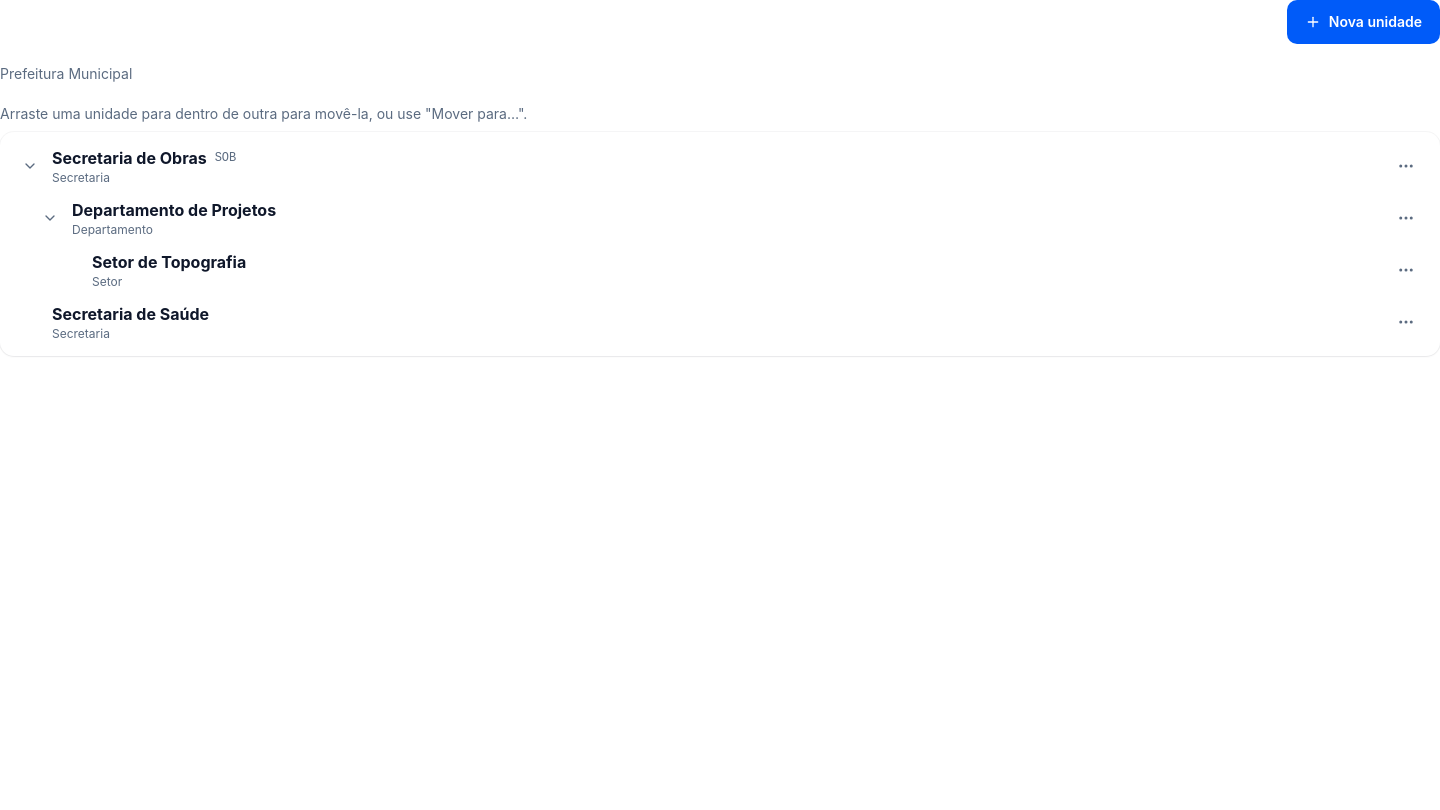
Test case: [Sucesso] SCR-032 · aba Secretarias › criar unidade na raiz: corpo do DEP-03 com Idempotency-Key e árvore relida
This screenshot has width=1440, height=810.
Click the button "Nova unidade".
click(1363, 22)  # box [1287, 0, 1439, 44]
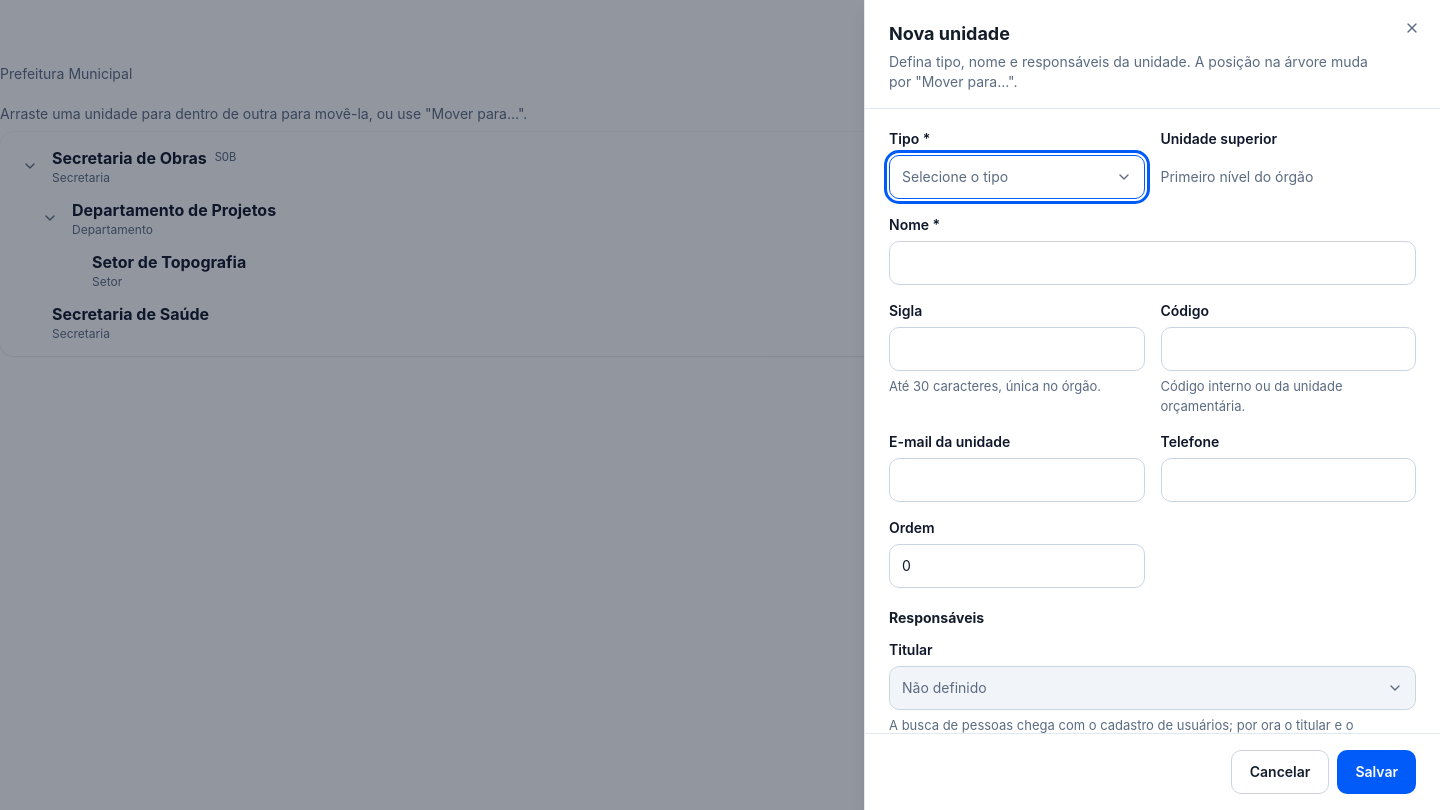
Click the dropdown named "Tipo *".
click(1017, 177)  # box [889, 155, 1144, 199]
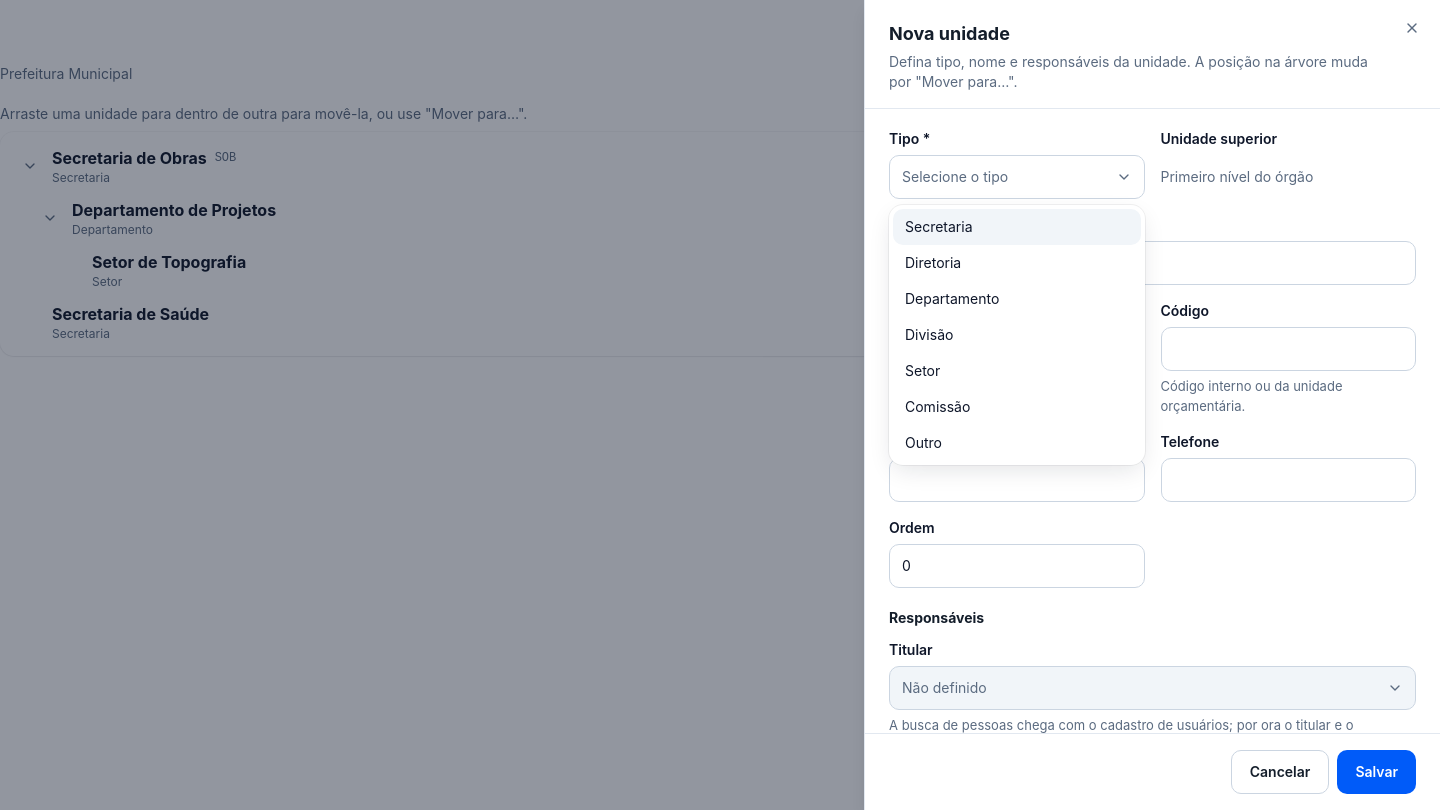
Click the option "Secretaria".
click(1017, 227)  # box [893, 209, 1140, 245]
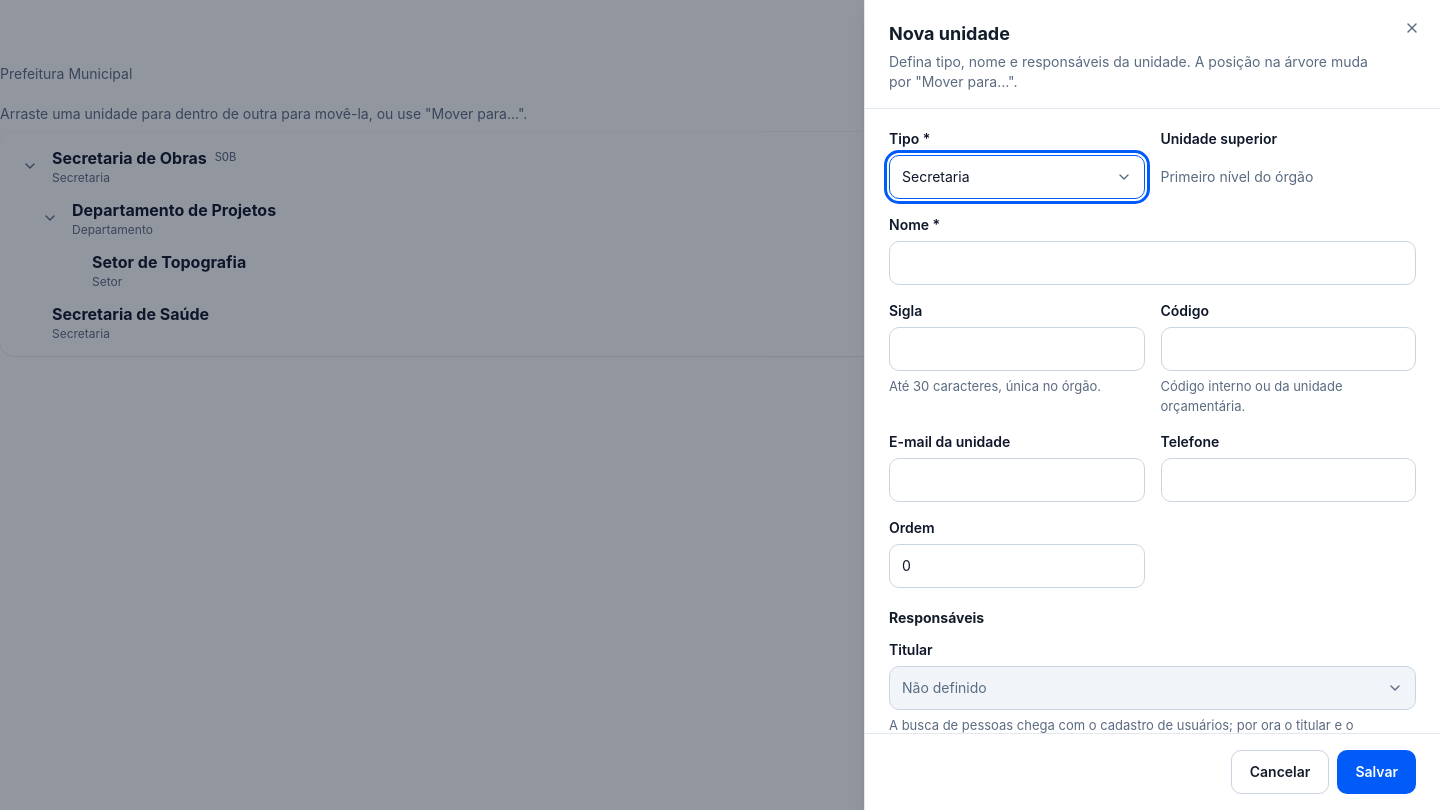
Type "Secretaria de Cultura" into the field labelled "Nome *".
click(1152, 263); type("Secretaria de Cultura")  # box [889, 241, 1416, 285]
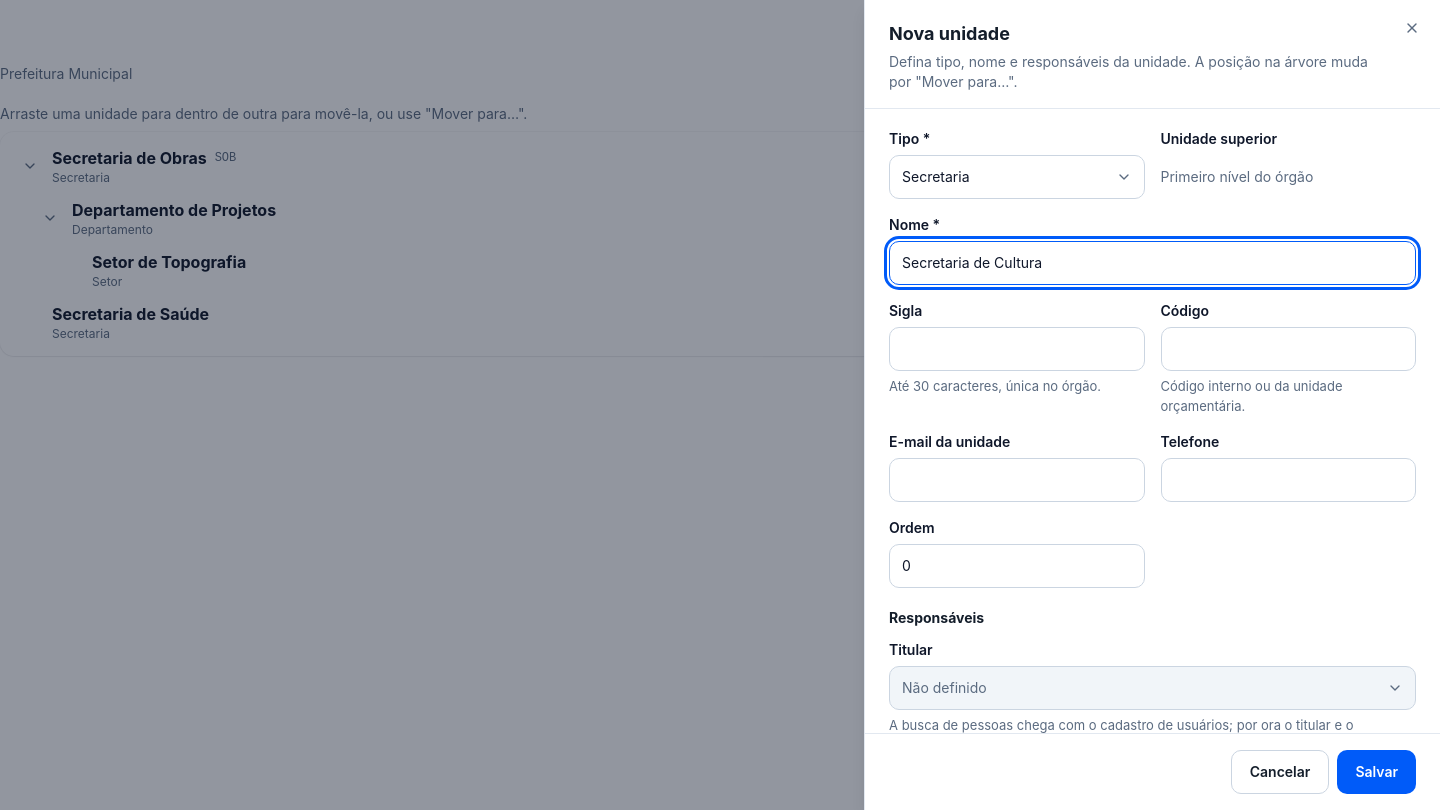
Type "sec" into the field labelled "Sigla".
click(1017, 349); type("sec")  # box [889, 327, 1144, 371]
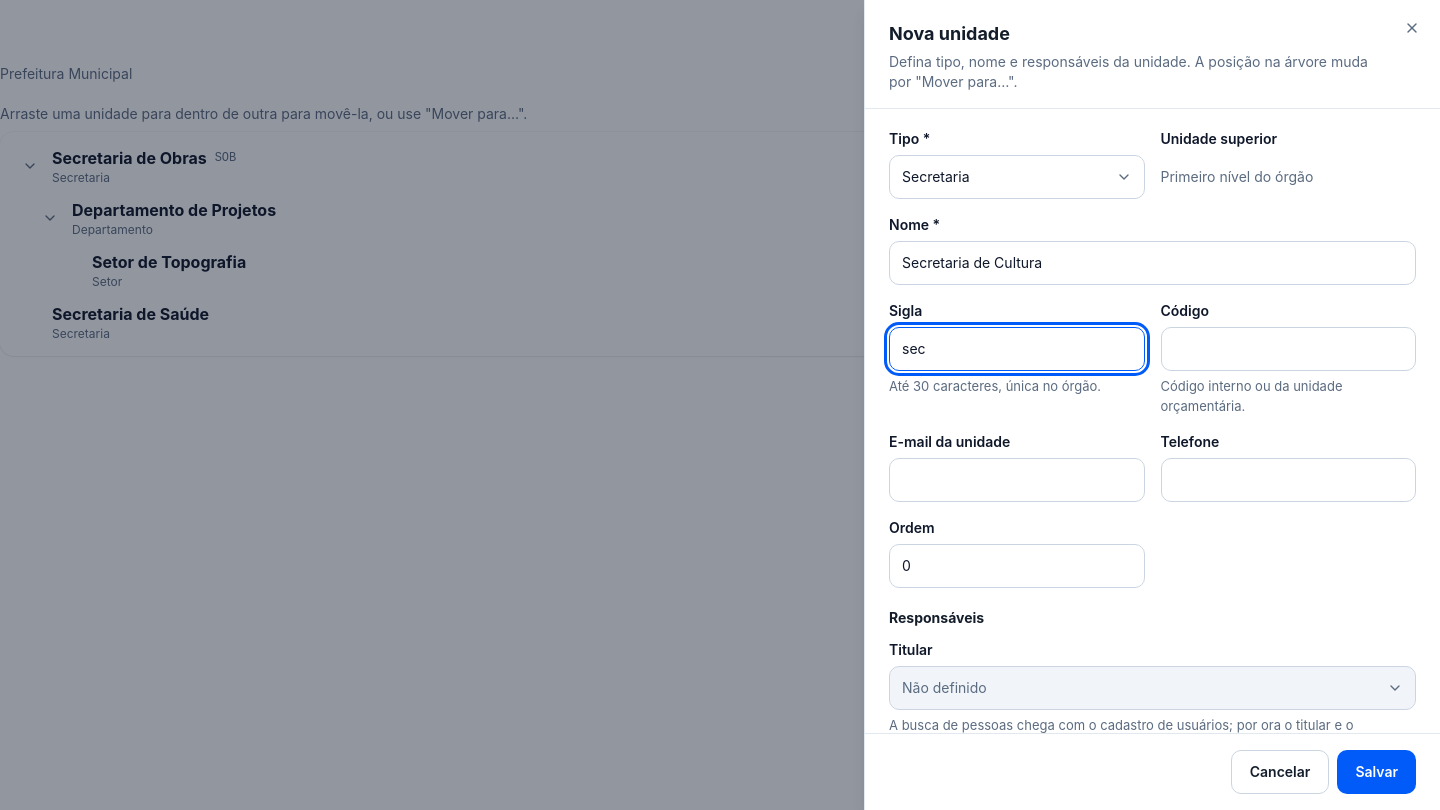
Click the button "Salvar".
click(1377, 772)  # box [1337, 750, 1416, 794]
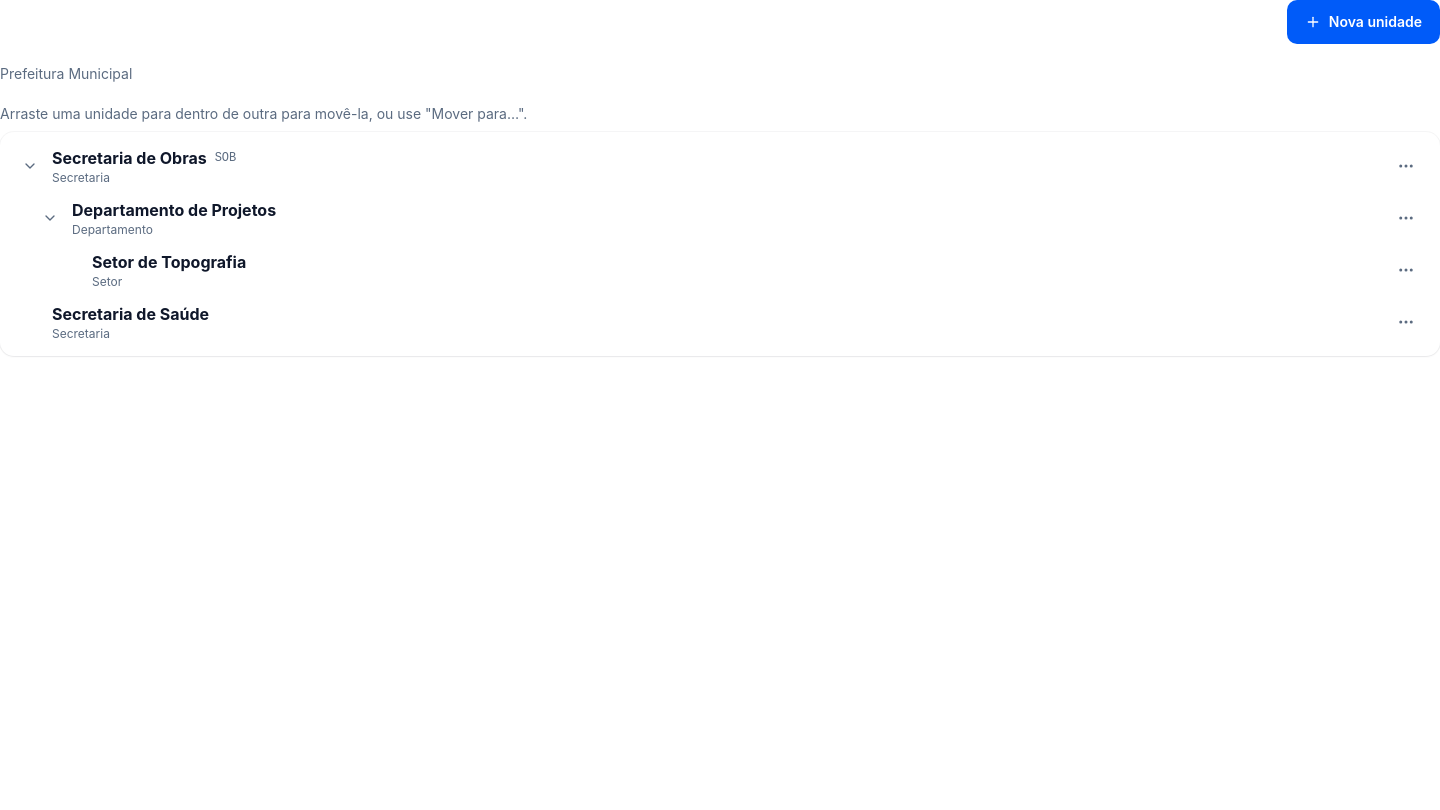
expect the dialog is gone: met
